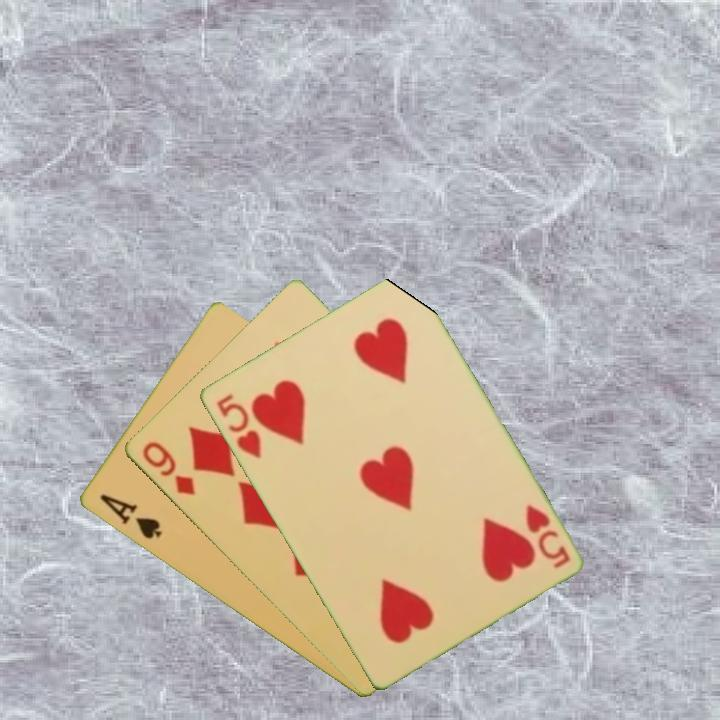5h: (212, 389, 264, 462), (521, 501, 573, 571)
9d: (138, 438, 198, 499)
As: (95, 490, 164, 542)
